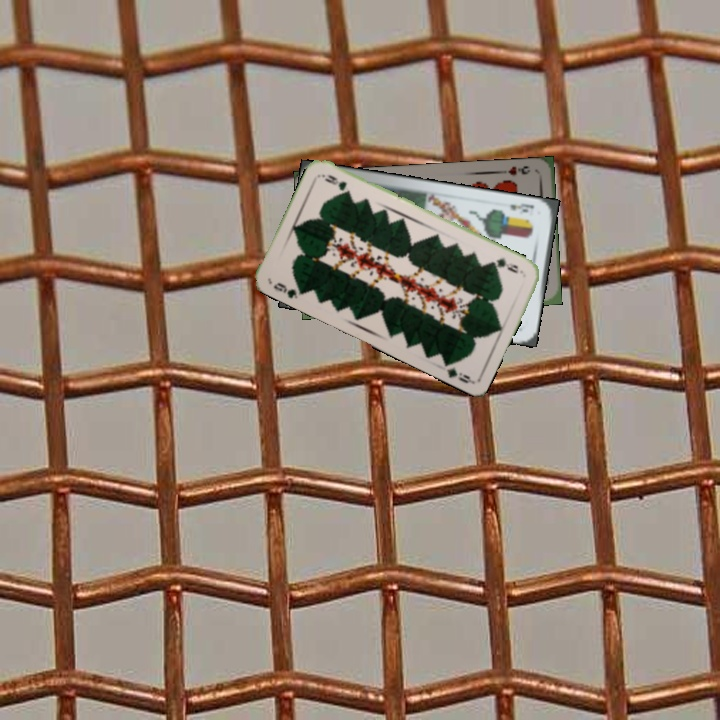EK: (506, 199, 536, 215)
G9: (487, 254, 526, 276), (269, 278, 300, 301)
H9: (497, 162, 533, 178)
